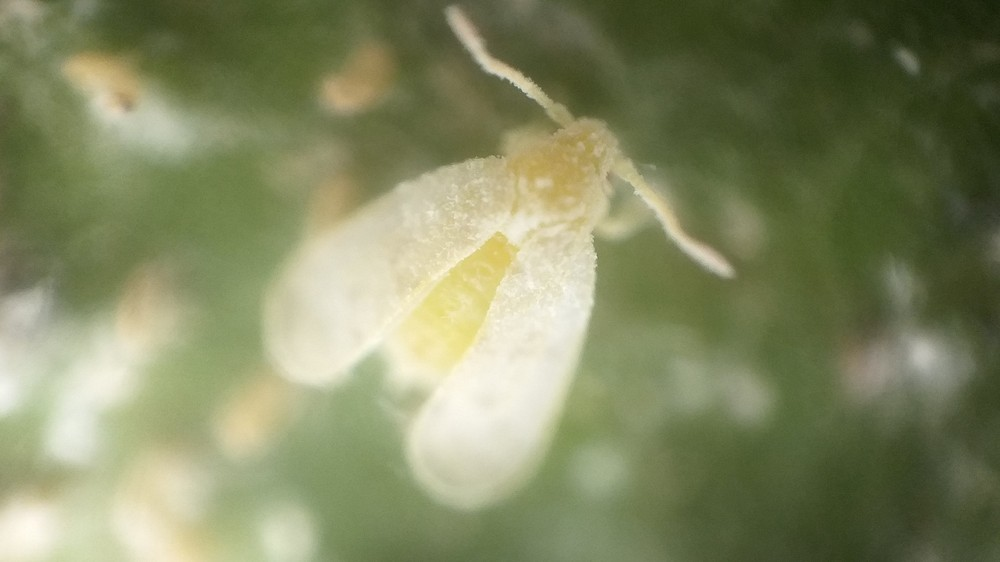Mosca Blanca: (251, 5, 752, 514)
